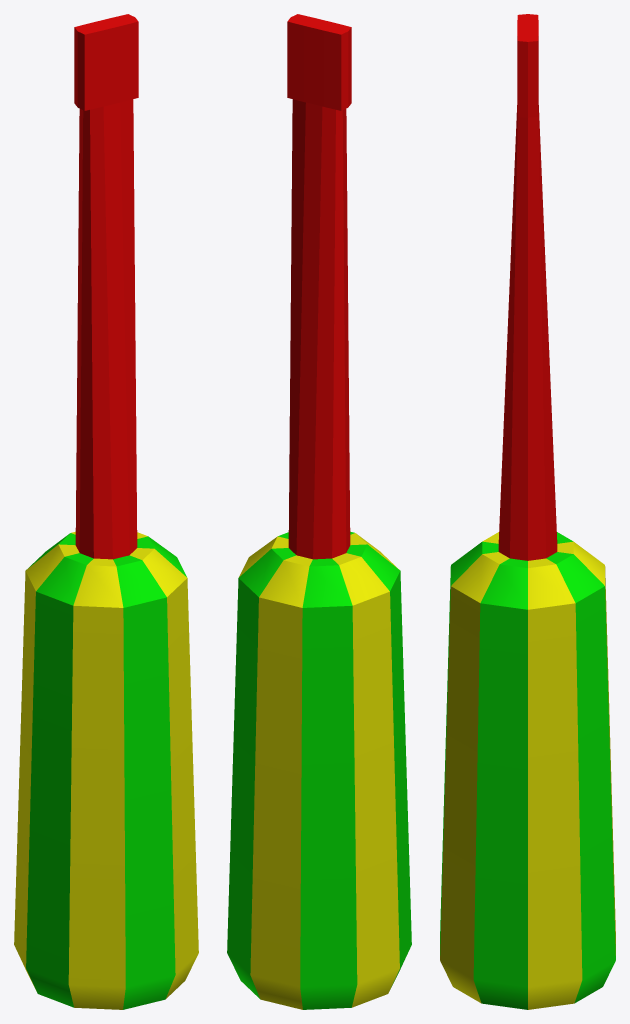
Rendered from ScrewDriverB.fbx.
3 renders of one model, left to right at view 1: azimuth 30°, elevation 25°; view 2: azimuth 150°, elevation 25°; view 3: azimuth 270°, elevation 25°, orthographic.
Parts seen in each view (by area): view 1: pCylinder10; view 2: pCylinder10; view 3: pCylinder10.
Boxes of the visible parts, x1,y1,x2,y2 form: pCylinder10: (14, 14, 198, 1009); pCylinder10: (227, 14, 411, 1009); pCylinder10: (440, 14, 615, 1009).
Bounding box in the file's own units: 0.7615 × 4.36 × 0.7242.
